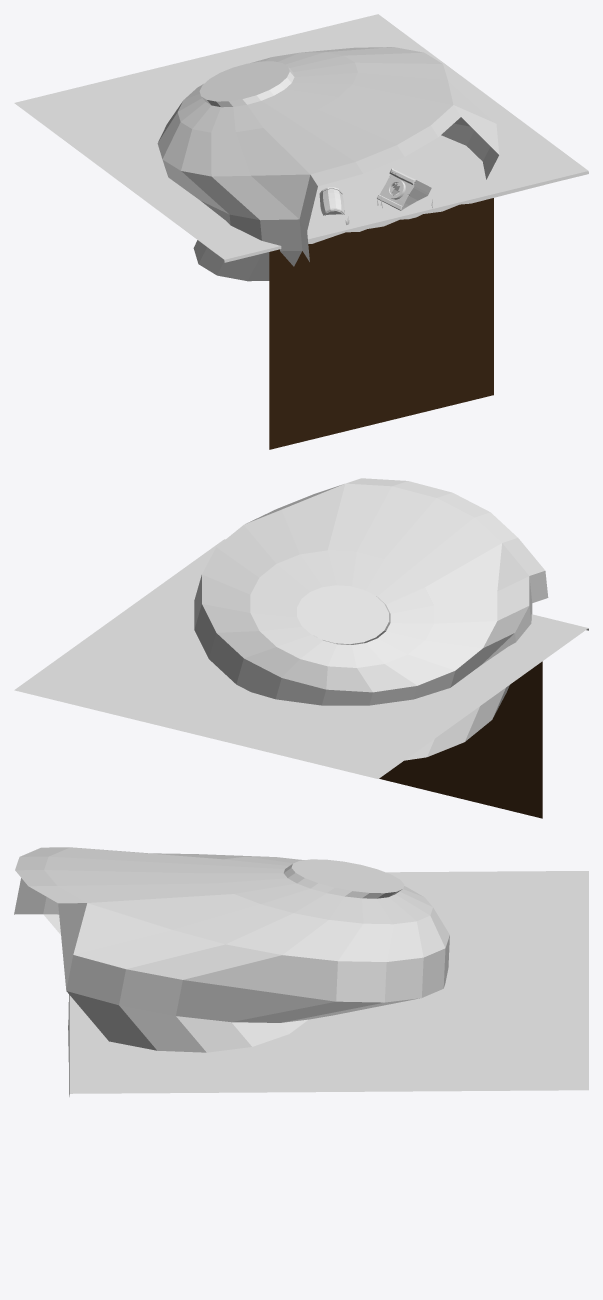
Rendered from Blocking_3D_Layout_004 - Copy.fbx.
3 renders of one model, top to bottom at view 1: azimuth 30°, elevation 25°; view 2: azimuth 150°, elevation 25°; view 3: azimuth 270°, elevation 25°, orthographic. The views are drawn at different scales.
Visible parts, largest first — view 1: DIRT, OUTDOOR, FLOOR, WASH_MACHINE, CAN; view 2: OUTDOOR, FLOOR, DIRT; view 3: OUTDOOR, FLOOR.
Boxes of the visible parts, <box> form: DIRT: <box>269,198,493,449</box>; OUTDOOR: <box>157,47,499,281</box>; FLOOR: <box>14,14,588,262</box>; WASH_MACHINE: <box>377,168,431,210</box>; CAN: <box>319,187,344,215</box>; OUTDOOR: <box>194,478,548,760</box>; FLOOR: <box>14,539,588,778</box>; DIRT: <box>379,661,542,818</box>; OUTDOOR: <box>14,847,449,1052</box>; FLOOR: <box>68,871,588,1096</box>.
Size of the model in its own units: 1298 by 999 by 1437.
